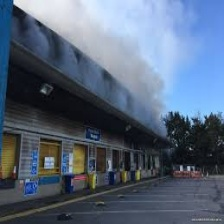smoke: (40, 1, 163, 97)
